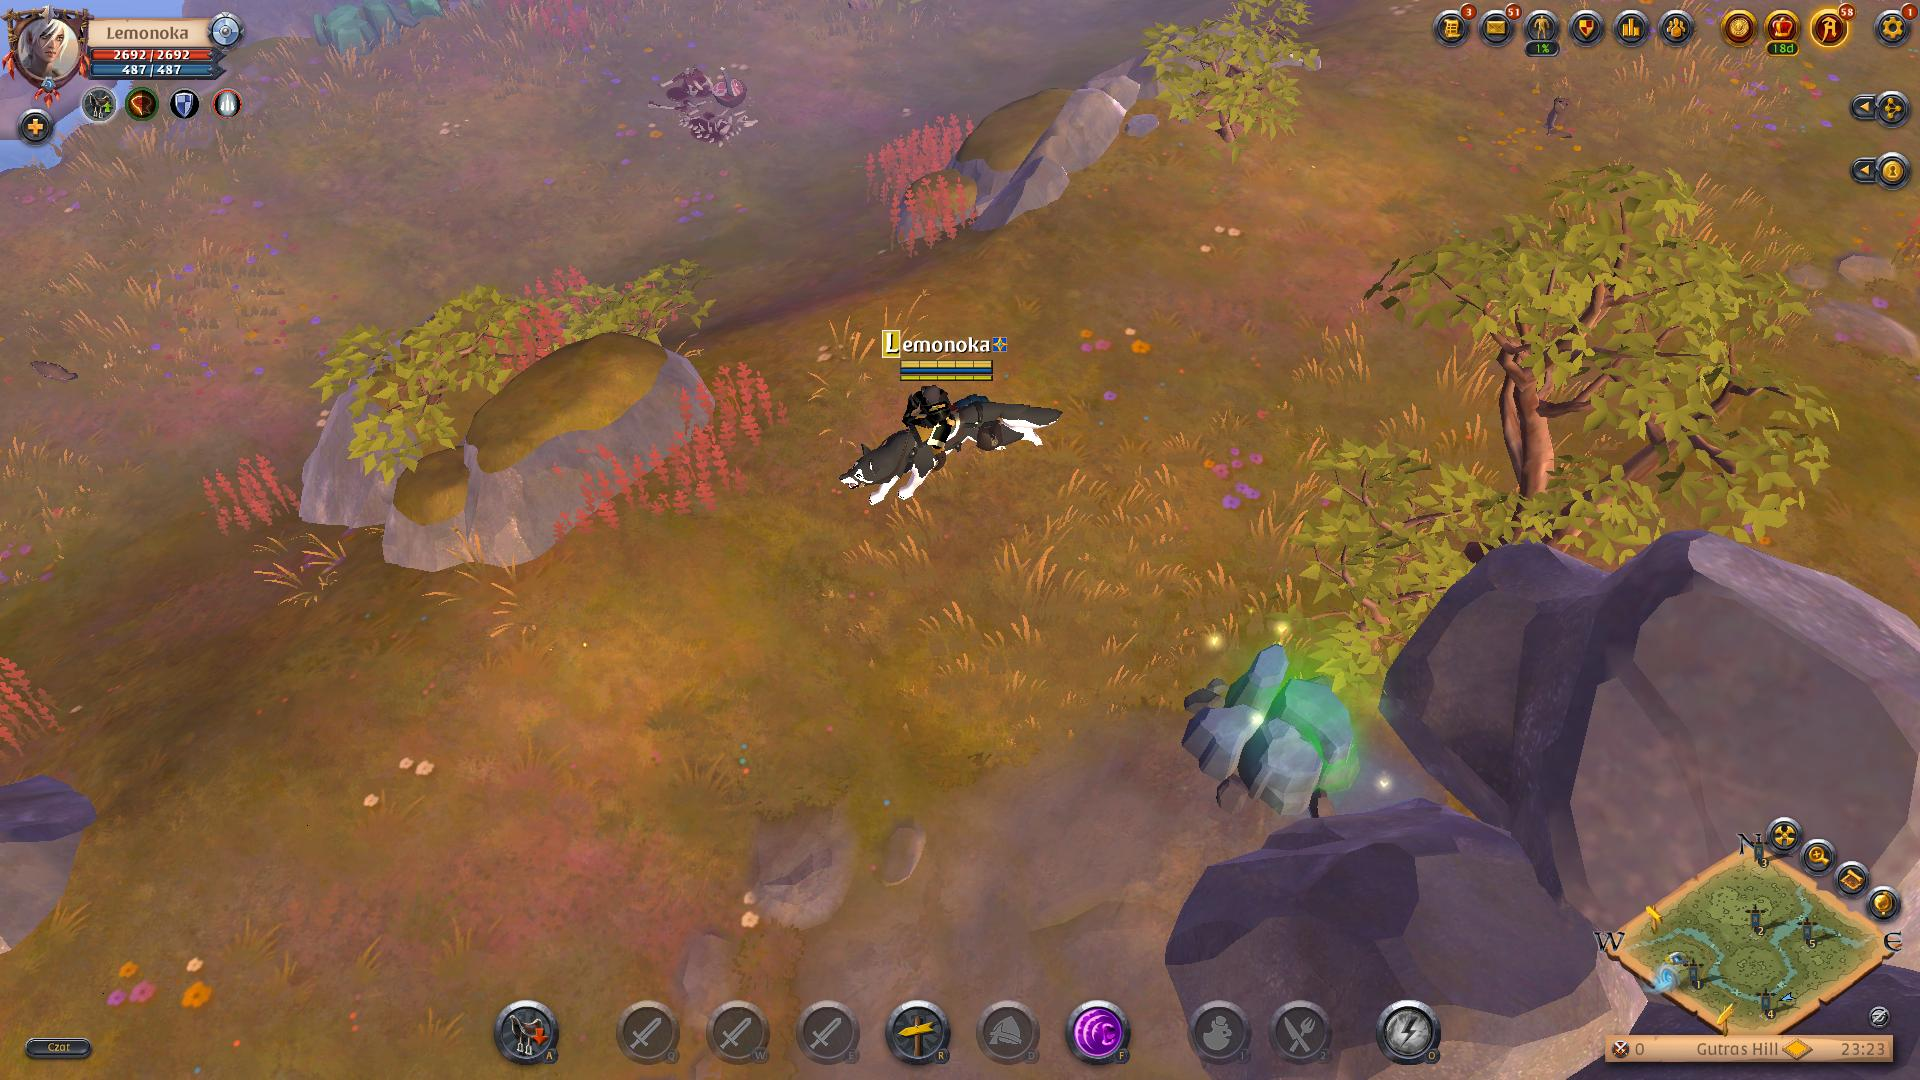rock tier 4: (1180, 642, 1387, 827)
